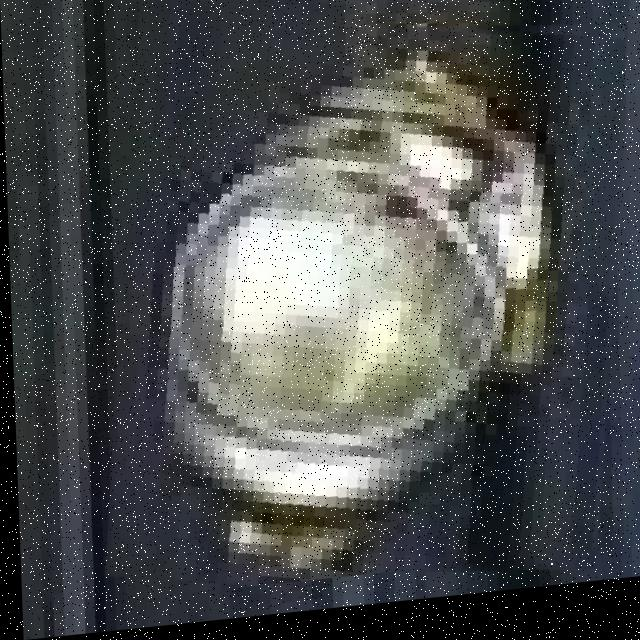litter: (123, 30, 626, 588)
